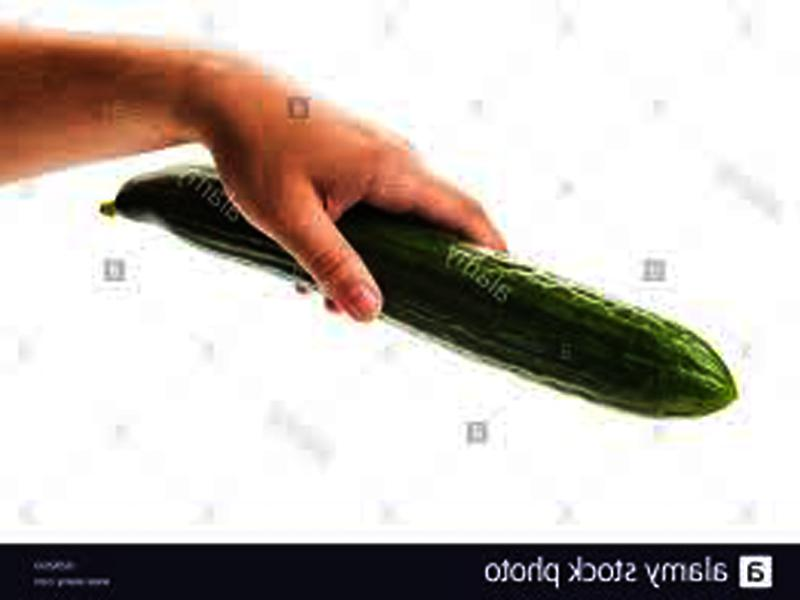Cucumber: (97, 166, 738, 419)
